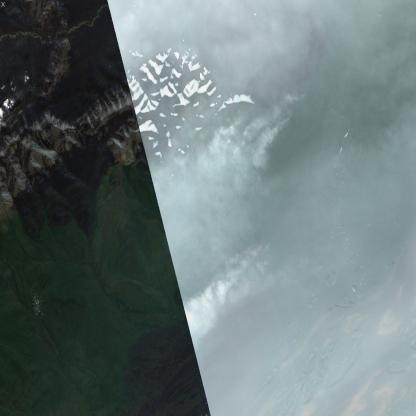fire: (183, 239, 278, 324)
